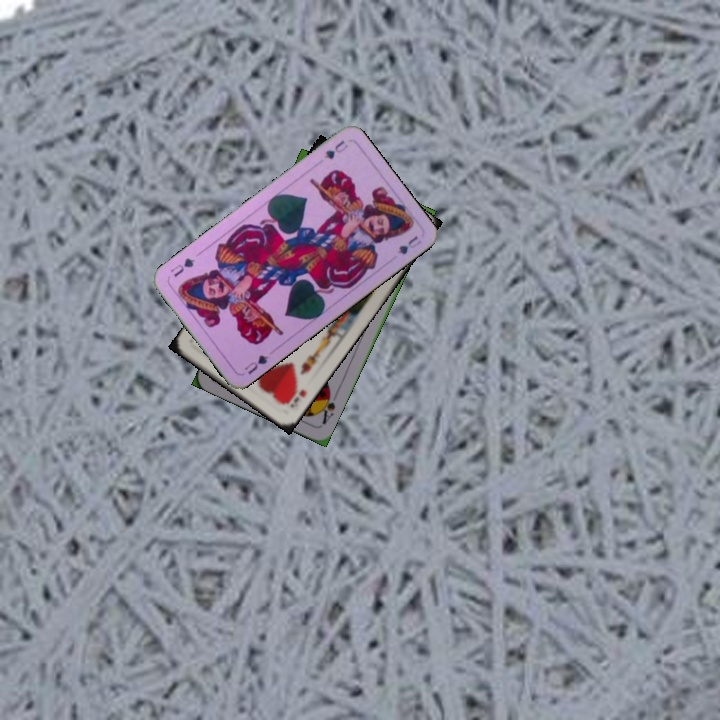GU: (241, 350, 271, 377), (320, 136, 351, 162)
HK: (282, 381, 309, 410)
SA: (315, 386, 338, 427)
